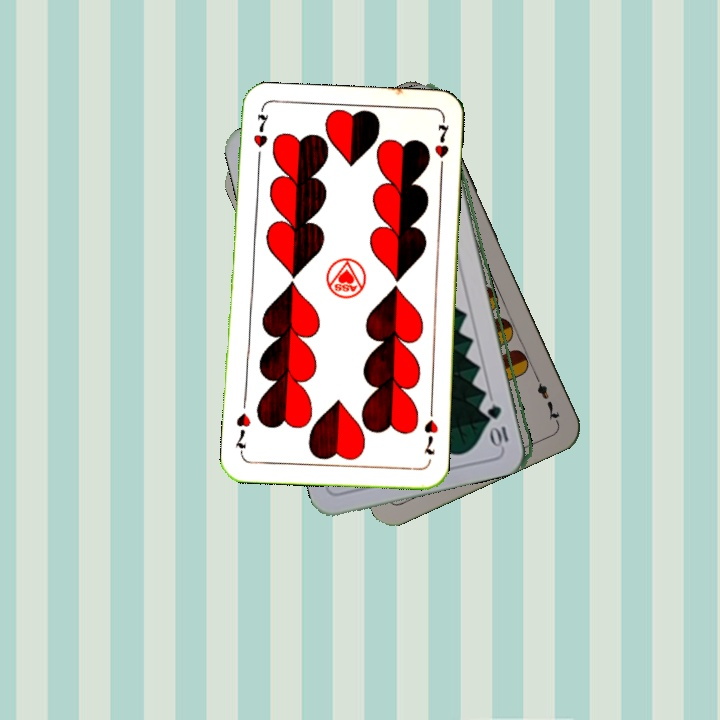E7: (530, 369, 563, 425)
G10: (487, 399, 511, 449)
H7: (249, 107, 269, 166), (420, 416, 441, 458)
